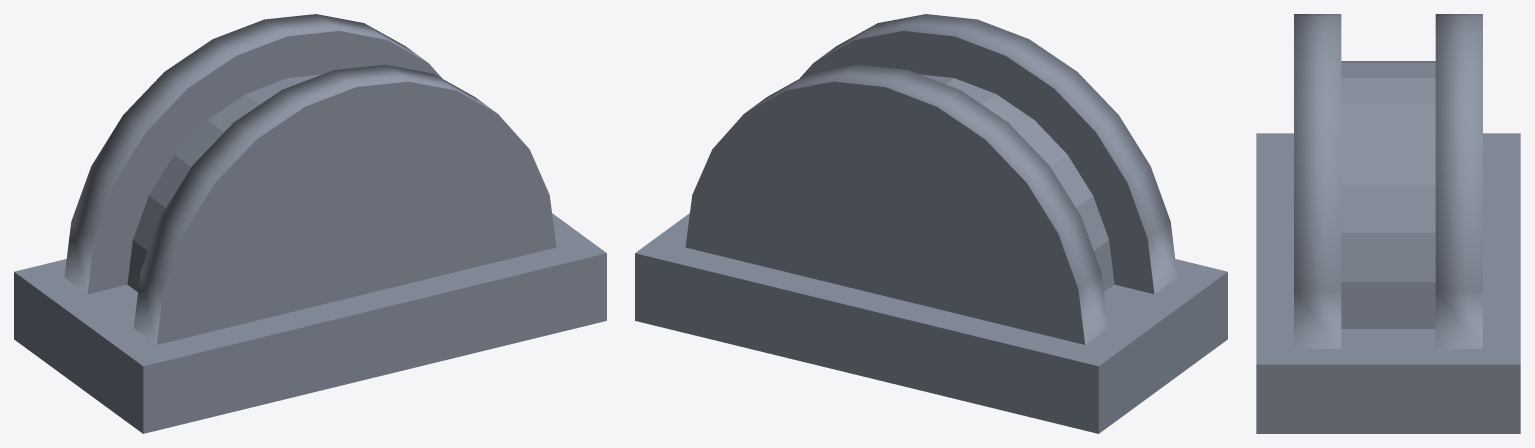
Rendered from lever-base.fbx.
3 views of the same model, side by side, from view 1: azimuth 30°, elevation 25°; view 2: azimuth 150°, elevation 25°; view 3: azimuth 270°, elevation 25° (orthographic). The views are drawn at different scales.
Visible parts, largest first — view 1: lever; view 2: lever; view 3: lever.
Boxes of the visible parts, bbox=[...] form: lever: bbox=[14, 14, 606, 433]; lever: bbox=[635, 14, 1227, 433]; lever: bbox=[1256, 14, 1520, 433].
Bounding box in the file's own units: 58 × 33.08 × 28.
